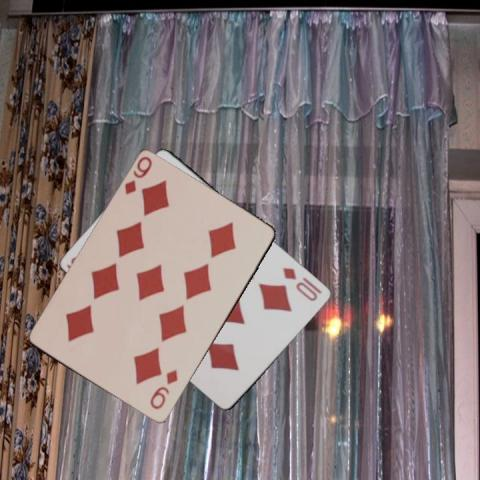10d: (280, 264, 319, 303)
9d: (147, 367, 180, 411), (121, 153, 154, 197)
